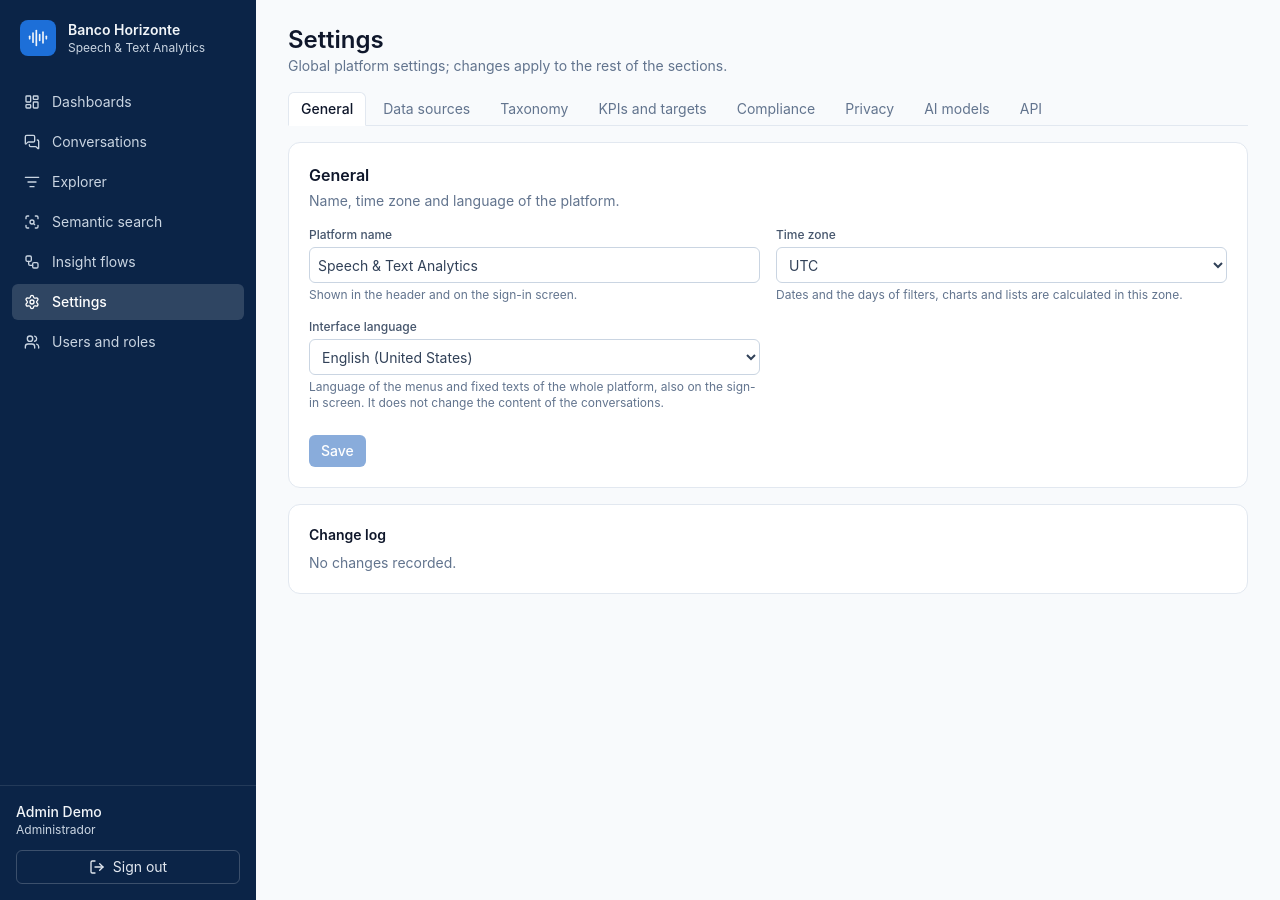
Idioma de la interfaz (FE016) › volver a español desde Configuración restablece los menús y <html lang>
Expected: the navigation bar named "Main" is shown, [12, 93, 244, 350]
Select "Español (España)" in the dropdown labelled "Interface language" at x=534, y=357, box [309, 339, 760, 375]
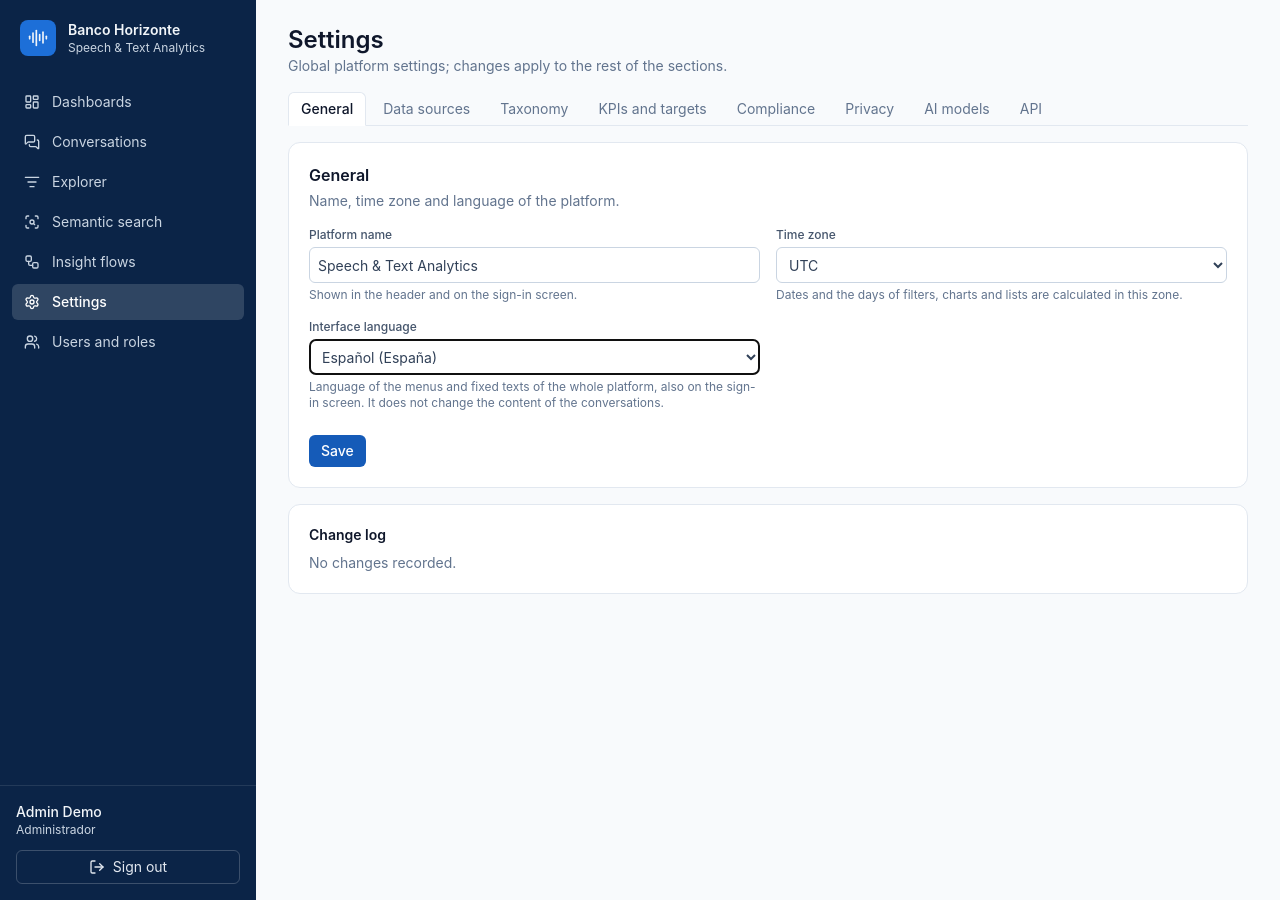
Click the button "Save" at x=337, y=451, box [309, 435, 366, 467]
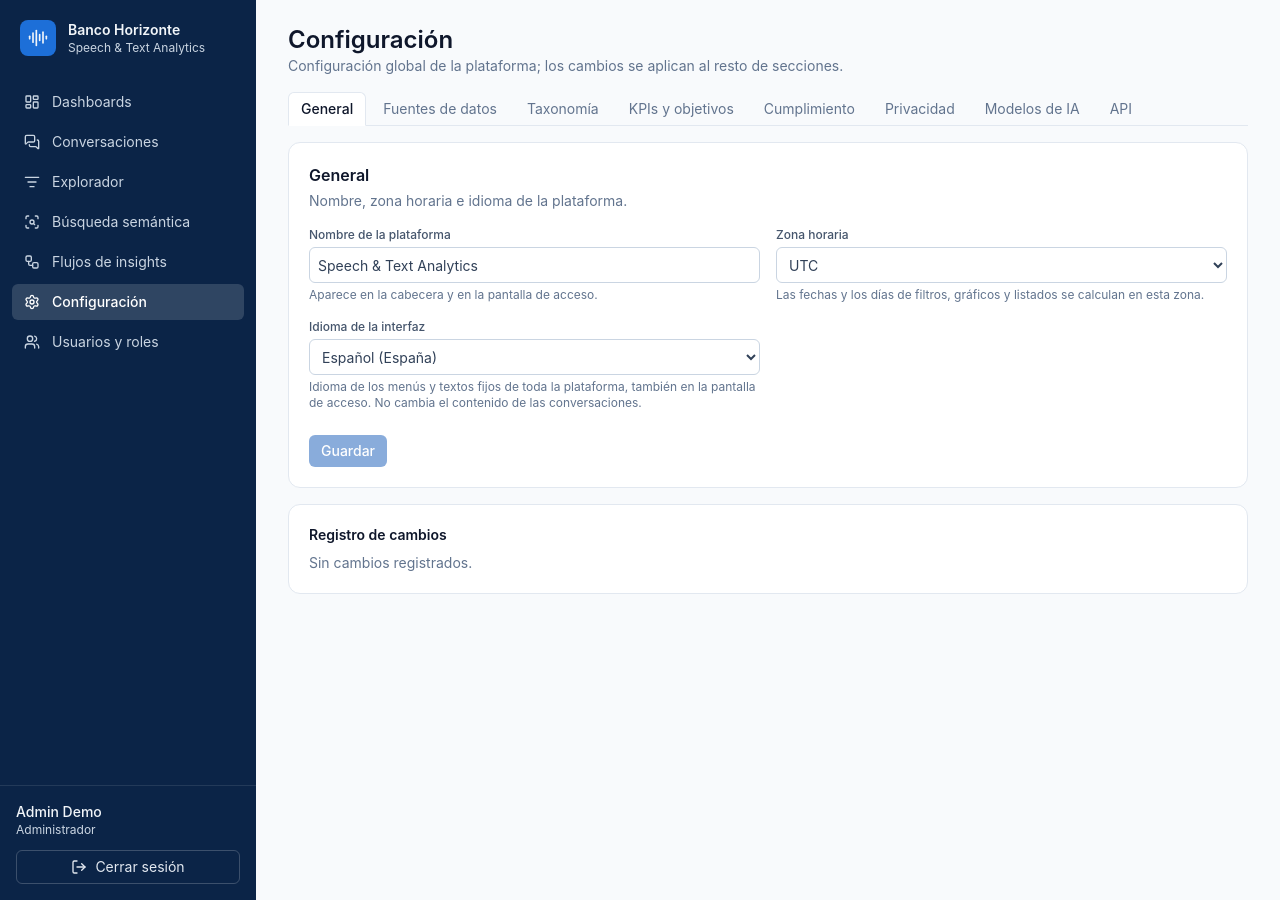
Expected: the navigation bar named "Principal" is shown, [12, 93, 244, 350]
Expected: the button "Cerrar sesión" is shown, [16, 850, 240, 884]
